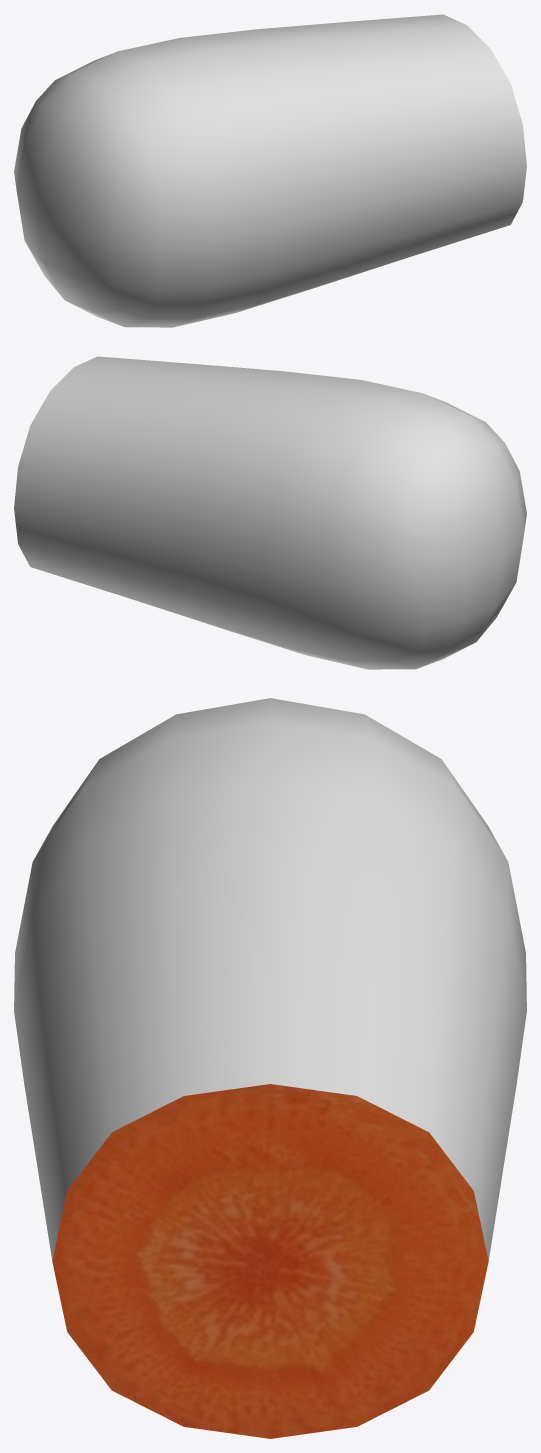
File: CarrotStart.fbx
3 views of the same model, one above another, from view 1: azimuth 30°, elevation 25°; view 2: azimuth 150°, elevation 25°; view 3: azimuth 270°, elevation 25° (orthographic). The views are drawn at different scales.
Parts seen in each view (by area): view 1: Carrot1.004; view 2: Carrot1.004; view 3: Carrot1.004, Carrot1.005.
Part boxes in pixels (x1,y1,x2,y2): Carrot1.004: (14, 14, 526, 327); Carrot1.004: (14, 356, 526, 669); Carrot1.004: (14, 698, 526, 1260); Carrot1.005: (52, 1084, 488, 1438).
Size of the model in its own units: 6.93 by 3.91 by 3.93.
Materials: 2 (1 with a texture image).
